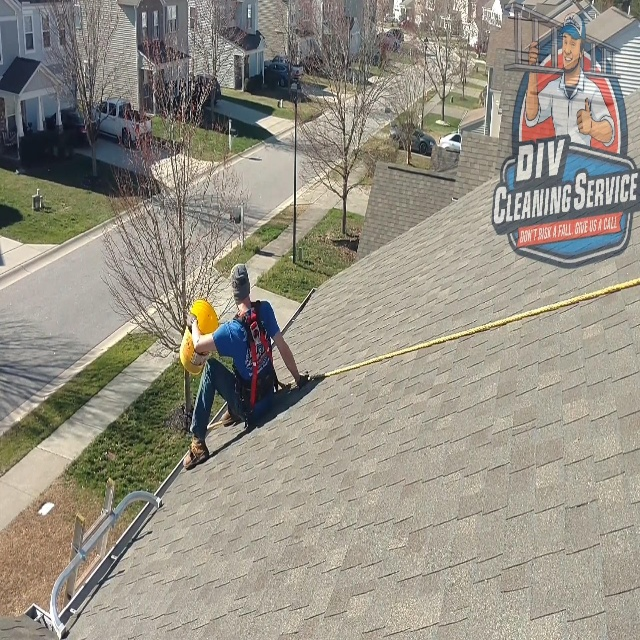Arnes_seguridad: (228, 304, 282, 426)
